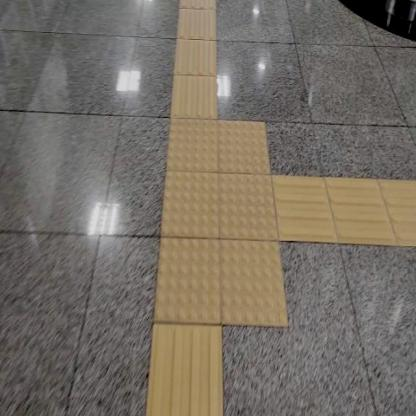podotacti: (134, 88, 309, 348), (281, 177, 415, 241), (145, 327, 227, 415), (168, 0, 218, 120)
